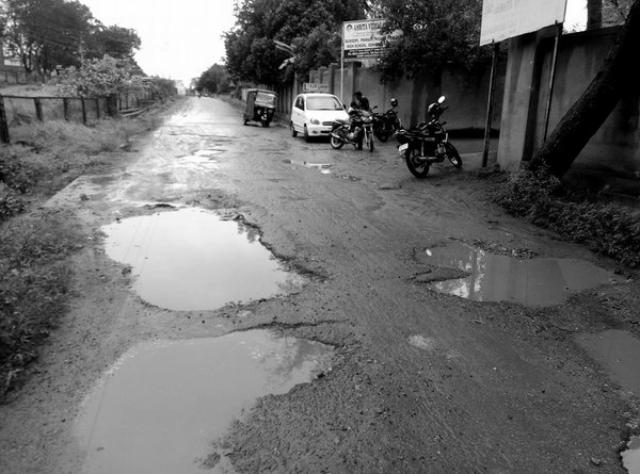Pothole: (59, 317, 345, 474), (82, 196, 338, 314), (400, 218, 640, 314), (564, 313, 640, 474)
